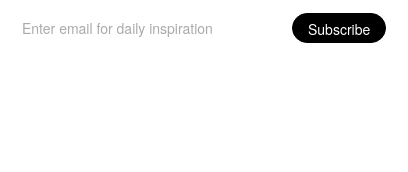
it: FooterForm › says "That email is invalid" in red for a taken address, until the text changes
Type "ada@example.com" into the field with placeholder "Enter email for daily inspiration" at (147, 28), box [12,12,282,42]
Then press Enter
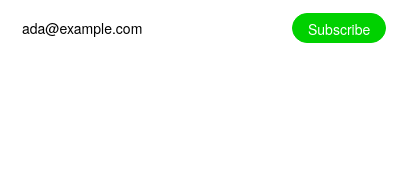
Expected: the form has class "isFailing", [12,12,391,43]
Type "x" into the field with placeholder "Enter email for daily inspiration" at (147, 28), box [12,12,282,42]
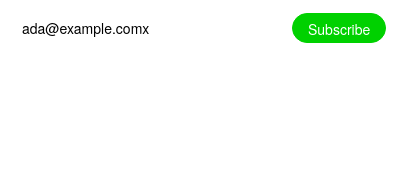
Expected: the text "That email is invalid" is gone
